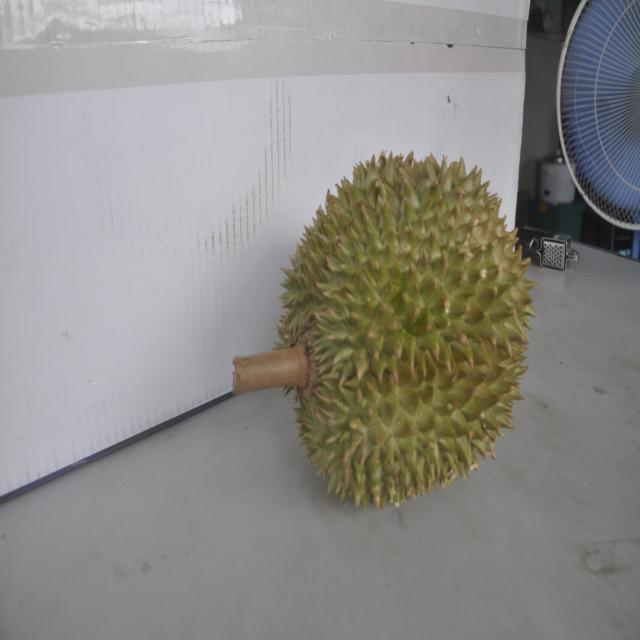mature: (271, 146, 528, 507)
